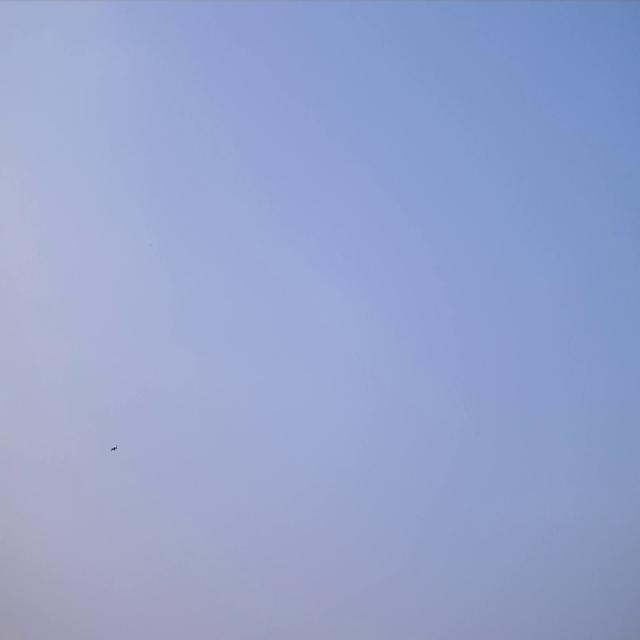UAV: (110, 444, 118, 453)
